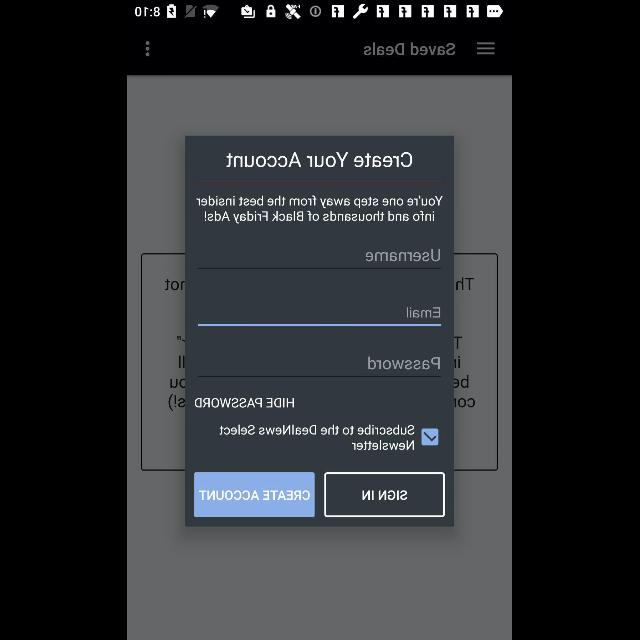checkbox: (422, 428, 440, 447)
icon: (477, 43, 495, 55), (146, 41, 150, 57)
input: (198, 357, 442, 378), (198, 249, 442, 269), (198, 307, 442, 327)
panel: (185, 136, 455, 526)
text: (197, 196, 443, 224), (220, 425, 416, 451), (227, 152, 413, 168), (364, 42, 456, 56), (366, 248, 440, 262), (196, 398, 294, 408), (369, 356, 441, 369), (407, 306, 441, 318)
textbutton: (324, 472, 446, 518), (194, 472, 316, 518)
uppertaskbar: (128, 1, 512, 23)
